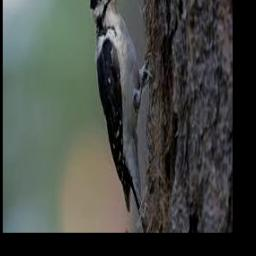Woodpecker: (80, 0, 152, 224)
